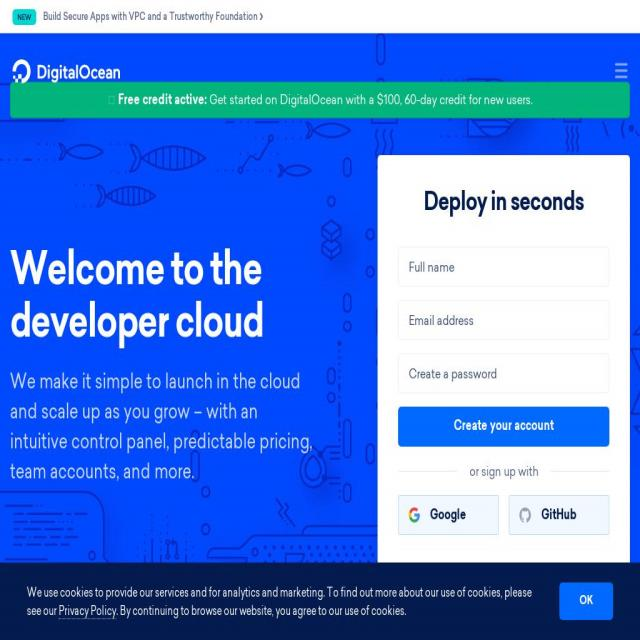options: (608, 60, 636, 87)
sign-up-form: (392, 158, 622, 562)
